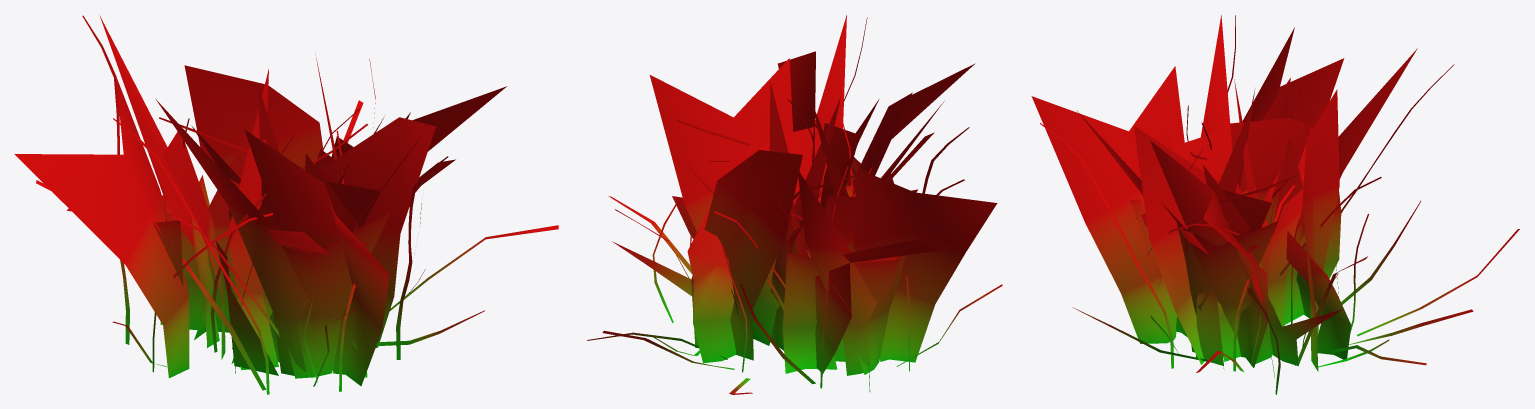
The model's file is Tundra Grass_LOD4_Var29_wk2oaeyqx.fbx.
3 views of the same model, side by side, from view 1: azimuth 30°, elevation 25°; view 2: azimuth 150°, elevation 25°; view 3: azimuth 270°, elevation 25° (orthographic). The views are drawn at different scales.
Visible parts, largest first — view 1: _uc1v_Var29_LOD4; view 2: _uc1v_Var29_LOD4; view 3: _uc1v_Var29_LOD4.
Part boxes in pixels (x1=…): _uc1v_Var29_LOD4: x1=14, y1=15, x2=558, y2=394; _uc1v_Var29_LOD4: x1=587, y1=15, x2=1002, y2=394; _uc1v_Var29_LOD4: x1=1031, y1=15, x2=1519, y2=394.
Bounding box in the file's own units: 32.95 × 18.99 × 32.13.
